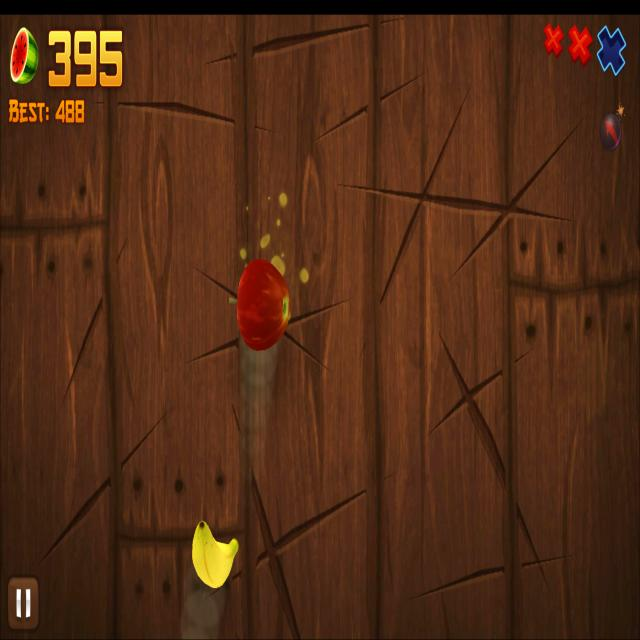fruit: (236, 258, 290, 352), (192, 521, 240, 588)
